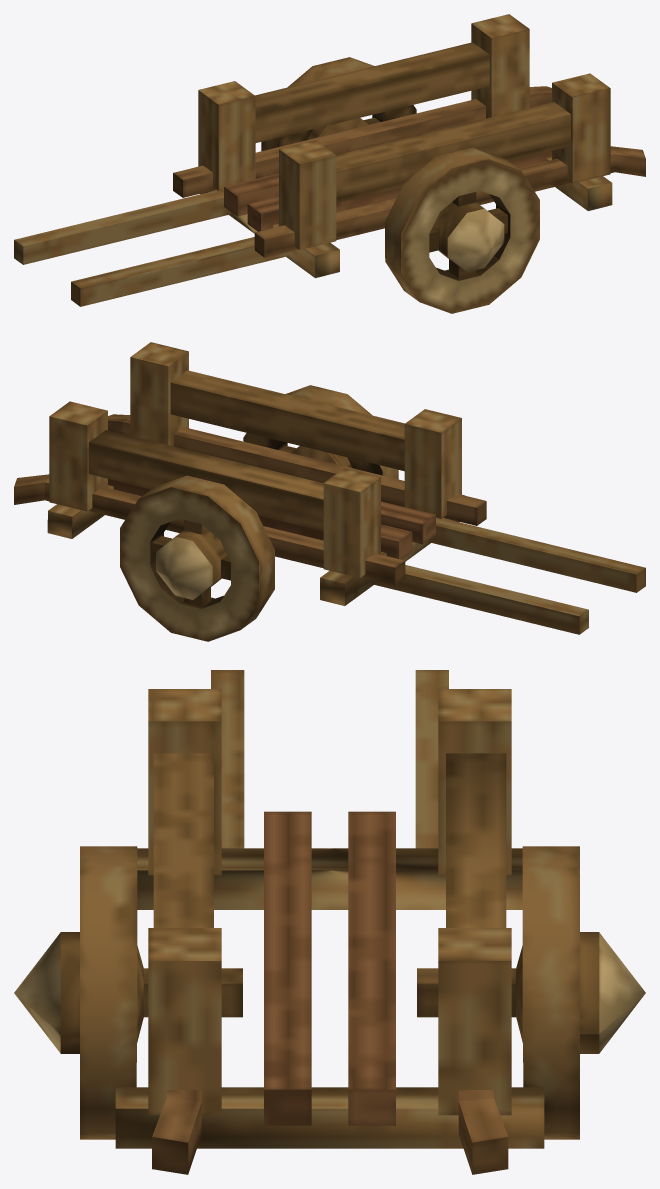
The model's file is Cart-Final-SecVersion-FBX (4).fbx.
3 views of the same model, one above another, from view 1: azimuth 30°, elevation 25°; view 2: azimuth 150°, elevation 25°; view 3: azimuth 270°, elevation 25° (orthographic). The views are drawn at different scales.
Visible parts, largest first — view 1: Cart_01; view 2: Cart_01; view 3: Cart_01.
Boxes of the visible parts, x1,y1,x2,y2 form: Cart_01: (14, 14, 645, 313); Cart_01: (14, 342, 645, 641); Cart_01: (14, 670, 645, 1174).
Bounding box in the file's own units: 321 × 92.96 × 177.
1 material, 1 textured.
